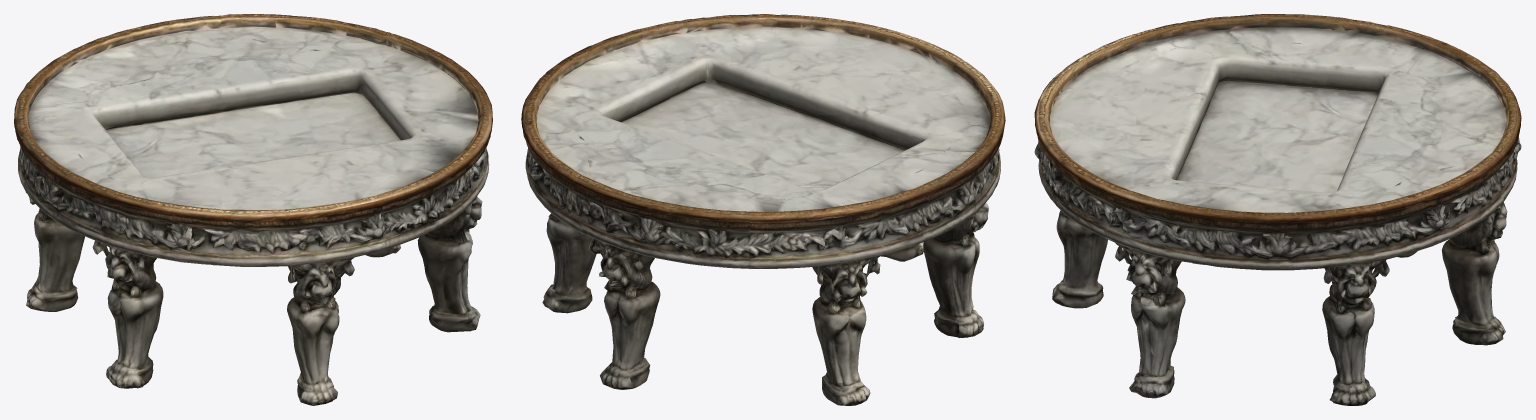
The model's file is roman-table.glb.
3 renders of one model, left to right at view 1: azimuth 30°, elevation 25°; view 2: azimuth 150°, elevation 25°; view 3: azimuth 270°, elevation 25°, orthographic.
Visible parts, largest first — view 1: tripo_node_a8e44748-37ab-46ec-8edb-2001933d98f8; view 2: tripo_node_a8e44748-37ab-46ec-8edb-2001933d98f8; view 3: tripo_node_a8e44748-37ab-46ec-8edb-2001933d98f8.
Part boxes in pixels (x1=…): tripo_node_a8e44748-37ab-46ec-8edb-2001933d98f8: x1=14, y1=14, x2=492, y2=405; tripo_node_a8e44748-37ab-46ec-8edb-2001933d98f8: x1=521, y1=14, x2=1005, y2=405; tripo_node_a8e44748-37ab-46ec-8edb-2001933d98f8: x1=1034, y1=14, x2=1521, y2=405.
Bounding box in the file's own units: 0.9781 × 0.4576 × 0.9793.
1 material, 1 textured.
